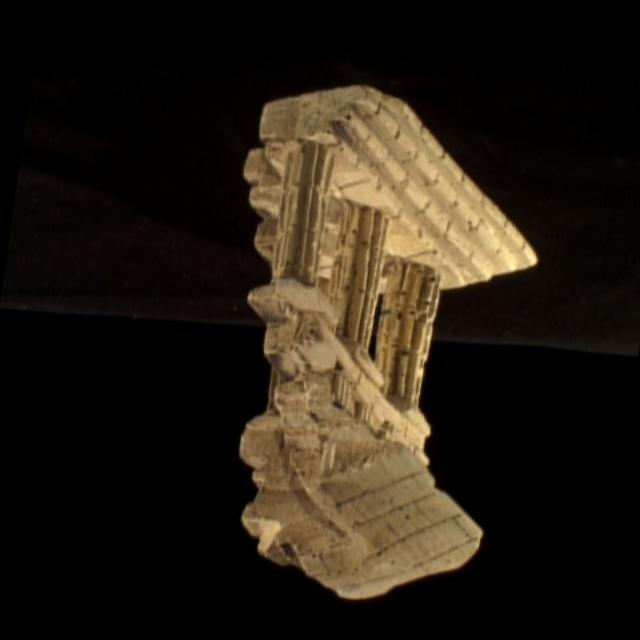Instance-Segmentation: (240, 87, 536, 599)
